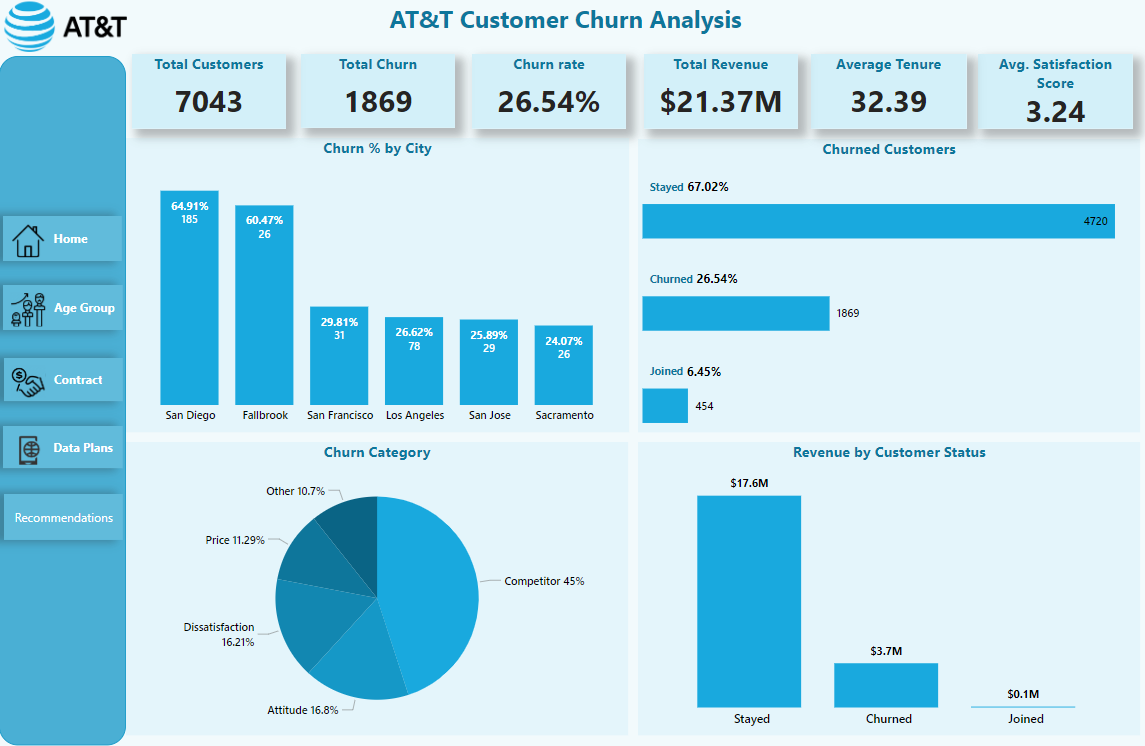

Layout of this report page (visuals, bound fields, positions):
{"tool":"powerbi","page":{"name":"Home","canvas":[1280,832],"ordinal":0},"visuals":[{"type":"card","title":"Total Customers","fields":{"Values":["CountNonNull(CustomerChurn.Customer ID)"]},"box":[147.8,63.3,171.1,83.3],"z":0},{"type":"card","title":"Total Churn","fields":{"Values":["CountNonNull(CustomerChurn.Churn)"]},"box":[335.6,63.3,171.1,82.2],"z":1000},{"type":"card","title":"Churn rate","fields":{"Values":["Measures (2).Churn Rate"]},"box":[525.6,63.3,171.1,83.3],"z":2000},{"type":"card","title":"Total Revenue","fields":{"Values":["Sum(Telco_customer_churn_services.Total Revenue)"]},"box":[716.3,63.5,170.9,82.7],"z":3000},{"type":"clusteredColumnChart","title":"Churn % by City","fields":{"Category":["Telco_customer_churn_location.City"],"Y":["Measures (2).Churn % by city"]},"box":[141.1,156.7,558.9,326.7],"z":4000},{"type":"clusteredBarChart","title":"Churned Customers","fields":{"Category":["Telco_customer_churn_status.Customer Status"],"Y":["Measures (2).Blank_Cust_status","CountNonNull(Telco_customer_churn.CustomerID)"]},"box":[710,158,558,326],"z":5000},{"type":"pieChart","title":"Churn Category","fields":{"Category":["Telco_customer_churn_status.Churn Category"],"Y":["CountNonNull(Telco_customer_churn.CustomerID)"]},"box":[141.1,494.4,558,326],"z":6000},{"type":"columnChart","title":"Revenue by Customer Status","fields":{"Category":["Telco_customer_churn_status.Customer Status"],"Y":["Sum(Telco_customer_churn_services.Total Revenue)"]},"box":[710,494.4,558,326],"z":7000},{"type":"textbox","box":[371.1,0,516.7,58.9],"z":8000},{"type":"image","box":[0,0,147.8,65.6],"z":9000},{"type":"textbox","box":[0,66,141,766],"z":10000},{"type":"card","title":"Average Tenure","fields":{"Values":["Avg(Telco_customer_churn_services.Tenure in Months)"]},"box":[902.7,63.6,172.7,82.7],"z":11000},{"type":"card","title":"Avg. Satisfaction Score","fields":{"Values":["Avg(Telco_customer_churn_status.Satisfaction Score)"]},"box":[1087.8,63.3,172.2,83.3],"z":12000},{"type":"actionButton","title":"Home","box":[4.2,243.3,132,50],"z":13000},{"type":"actionButton","title":"Home","box":[4.4,320,132.5,50],"z":14000},{"type":"actionButton","title":"Home","box":[5.6,401.1,132.2,47.8],"z":15000},{"type":"actionButton","title":"Home","box":[4.5,476.4,132.7,47],"z":16000},{"type":"actionButton","box":[5.6,552.2,132.2,51.1],"z":20000},{"type":"group","id":"g1","title":"Group 1","box":[147.8,142,1120,690],"z":21000}]}

Visuals, with their boxes in screenshot pixels (x1, y1, x2, y2), scaled from the page's 1280x832 canvas onto the 1145x746 screenshot:
"Total Customers" card: select_region(132, 57, 285, 131)
"Total Churn" card: select_region(300, 57, 453, 130)
"Churn rate" card: select_region(470, 57, 623, 131)
"Total Revenue" card: select_region(641, 57, 794, 131)
"Churn % by City" clusteredColumnChart: select_region(126, 141, 626, 433)
"Churned Customers" clusteredBarChart: select_region(635, 142, 1134, 434)
"Churn Category" pieChart: select_region(126, 443, 625, 736)
"Revenue by Customer Status" columnChart: select_region(635, 443, 1134, 736)
textbox: select_region(332, 0, 794, 53)
image: select_region(0, 0, 132, 59)
textbox: select_region(0, 59, 126, 745)
"Average Tenure" card: select_region(807, 57, 962, 131)
"Avg. Satisfaction Score" card: select_region(973, 57, 1127, 131)
"Home" actionButton: select_region(4, 218, 122, 263)
"Home" actionButton: select_region(4, 287, 122, 332)
"Home" actionButton: select_region(5, 360, 123, 402)
"Home" actionButton: select_region(4, 427, 123, 469)
actionButton: select_region(5, 495, 123, 541)
"Group 1" group: select_region(132, 127, 1134, 745)
